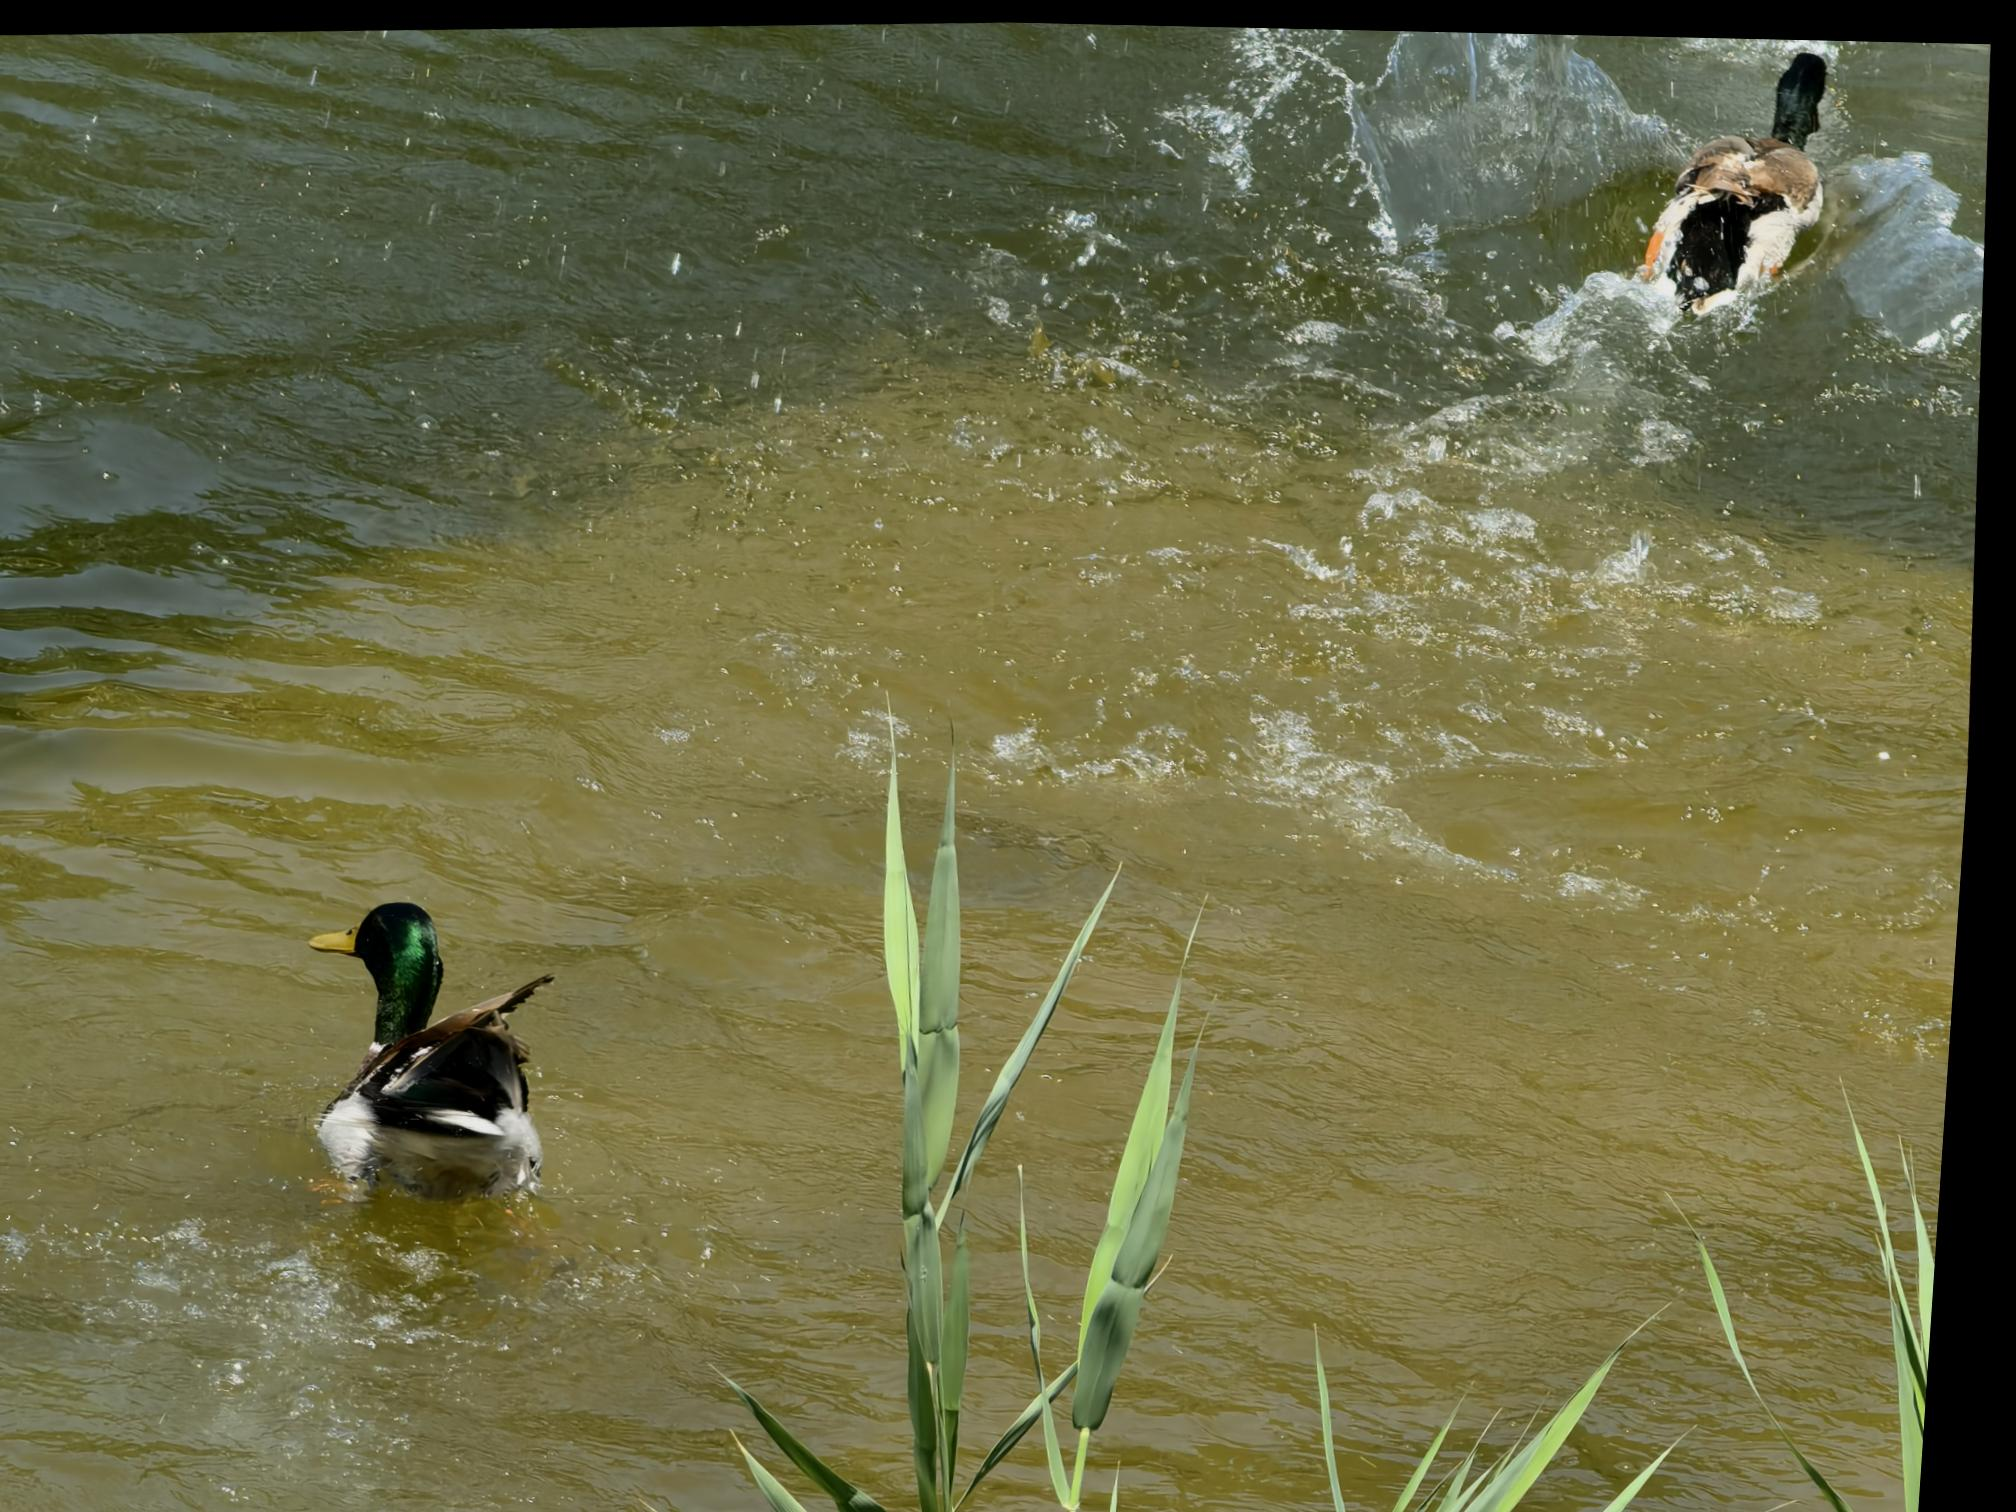duck: (273, 891, 585, 1207), (1611, 34, 1858, 313)
